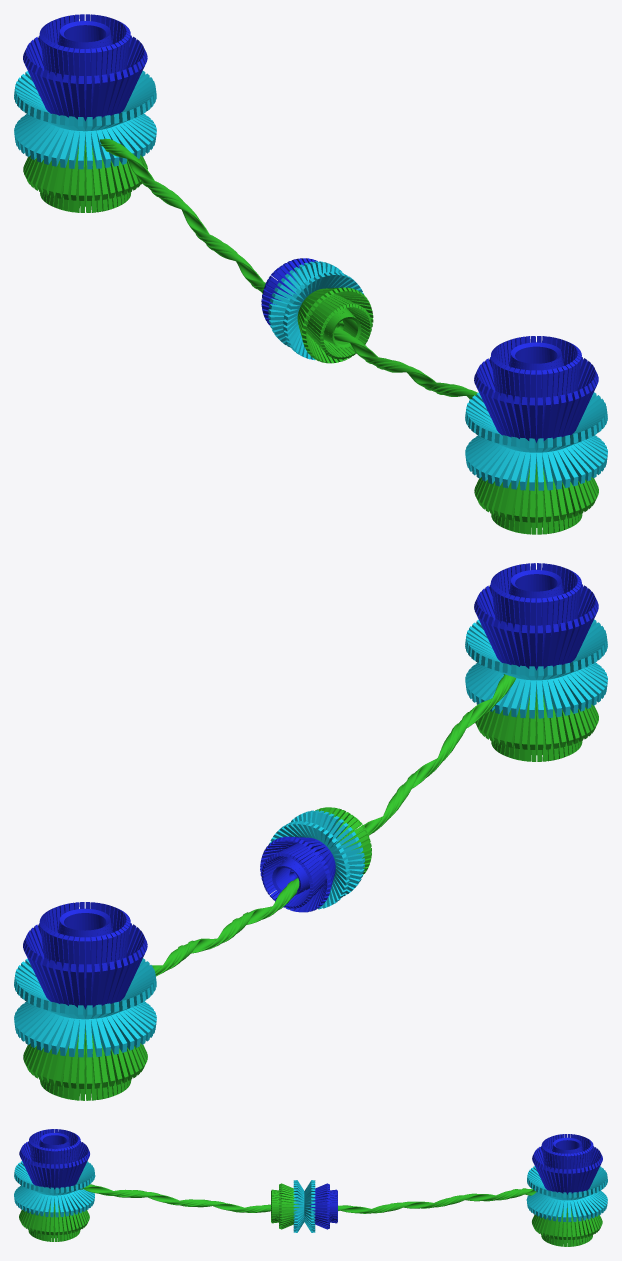
Rendered from ColorProps4.fbx.
The picture shows the model from 3 angles, top to bottom: view 1: azimuth 30°, elevation 25°; view 2: azimuth 150°, elevation 25°; view 3: azimuth 270°, elevation 25°; orthographic projection. The views are drawn at different scales.
Visible parts, largest first — view 1: Torus.011, Torus.002, Torus.006, Circle.006; view 2: Torus.002, Torus.011, Torus.006, Circle.006; view 3: Torus.002, Torus.011, Circle.006, Torus.006.
Boxes of the visible parts, x1=… form: Torus.011: x1=465, y1=336, x2=607, y2=534; Torus.002: x1=14, y1=14, x2=156, y2=212; Torus.006: x1=261, y1=258, x2=373, y2=363; Circle.006: x1=98, y1=138, x2=477, y2=399; Torus.002: x1=14, y1=902, x2=156, y2=1100; Torus.011: x1=465, y1=563, x2=607, y2=761; Torus.006: x1=260, y1=807, x2=371, y2=912; Circle.006: x1=152, y1=674, x2=515, y2=976; Torus.002: x1=526, y1=1134, x2=607, y2=1246; Torus.011: x1=14, y1=1129, x2=95, y2=1241; Circle.006: x1=80, y1=1184, x2=536, y2=1213; Torus.006: x1=271, y1=1180, x2=337, y2=1232.
Size of the model in its own units: 427 by 571 by 3126.
